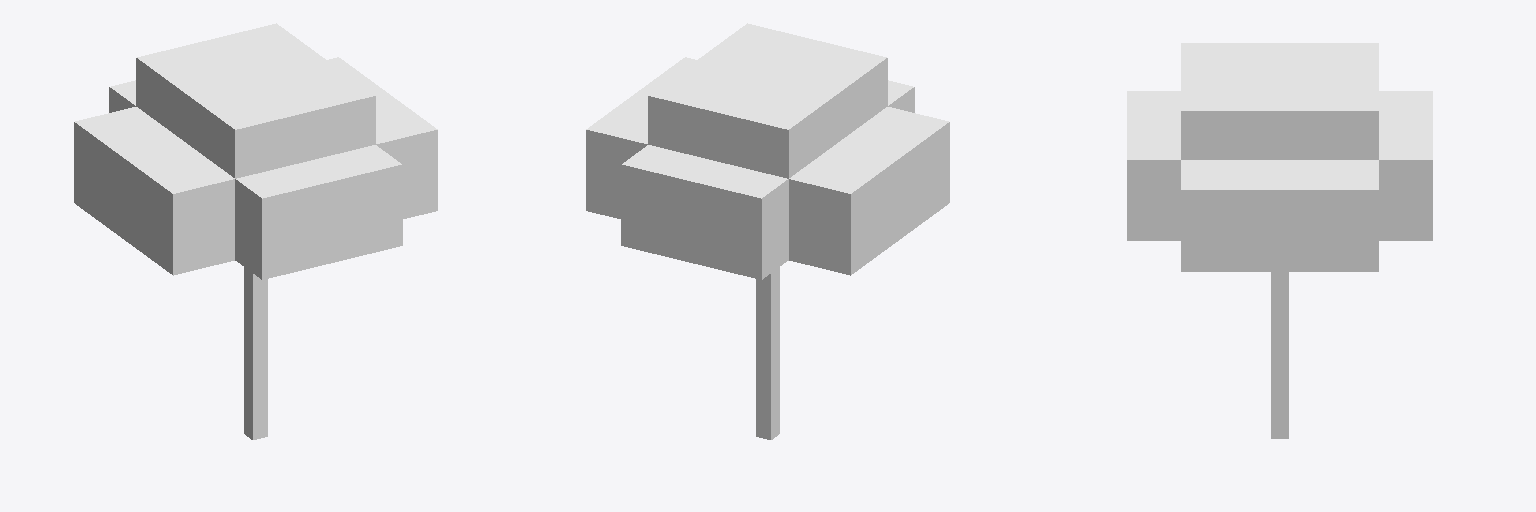
Rendered from Boom2_Normal.obj.
3 renders of one model, left to right at view 1: azimuth 30°, elevation 25°; view 2: azimuth 150°, elevation 25°; view 3: azimuth 270°, elevation 25°, orthographic.
Visible parts, largest first — view 1: Boom2_Normal; view 2: Boom2_Normal; view 3: Boom2_Normal.
Boxes of the visible parts, x1=… form: Boom2_Normal: x1=74, y1=23, x2=437, y2=439; Boom2_Normal: x1=586, y1=23, x2=949, y2=439; Boom2_Normal: x1=1127, y1=43, x2=1432, y2=438.
Bounding box in the file's own units: 17 × 22 × 17.